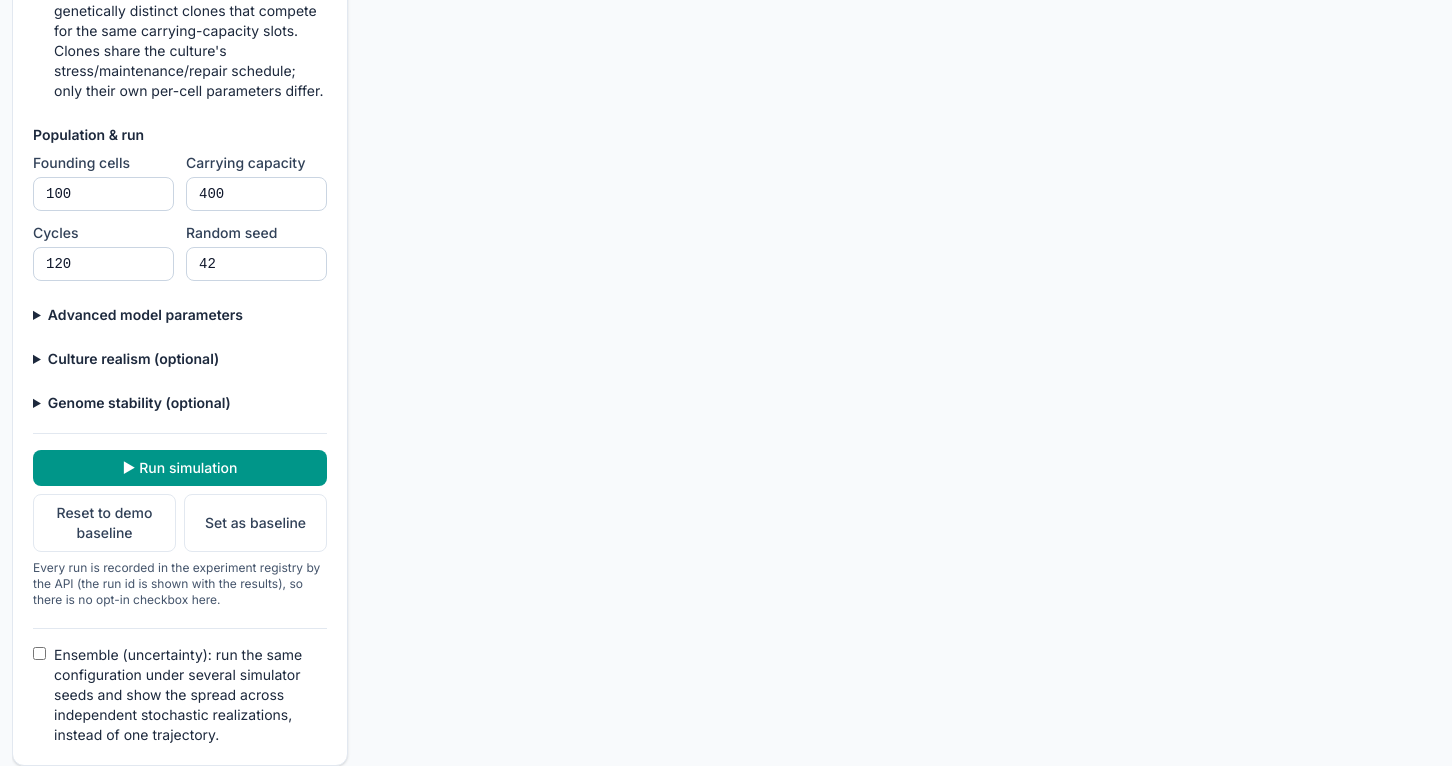
Simulate page › ensemble (uncertainty) mode › shows a loading state while the ensemble request is in flight
(page scrolled)
What coordinates should you click on to do the following:
click the checkbox labelled "Ensemble (uncertainty)"
I would click on:
 (40, 653)
Its box is [33,646,46,660].
(page scrolled)
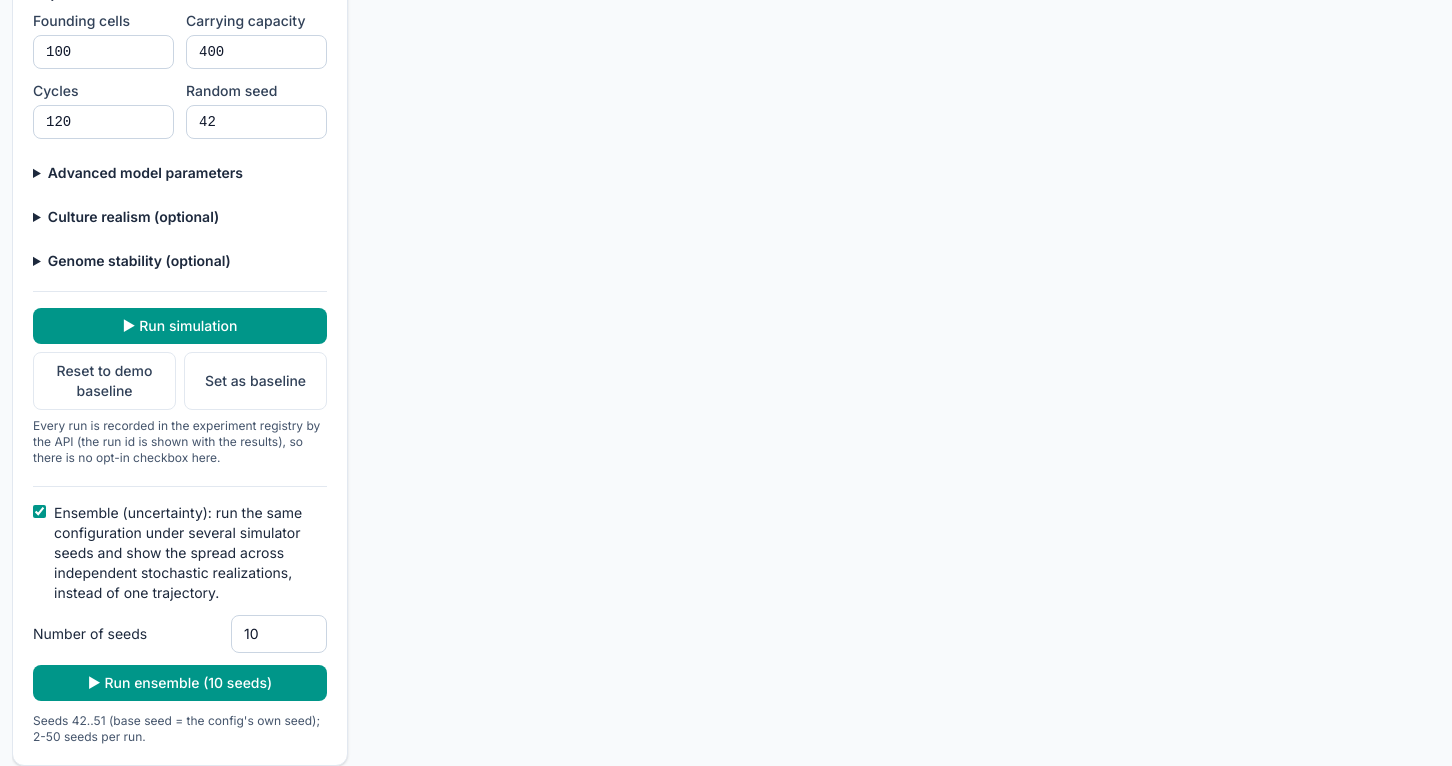
What coordinates should you click on to do the following:
click the button "▶ Run ensemble (10 seeds)"
I would click on:
 (180, 682)
Its box is [33,664,327,700].
(page scrolled)
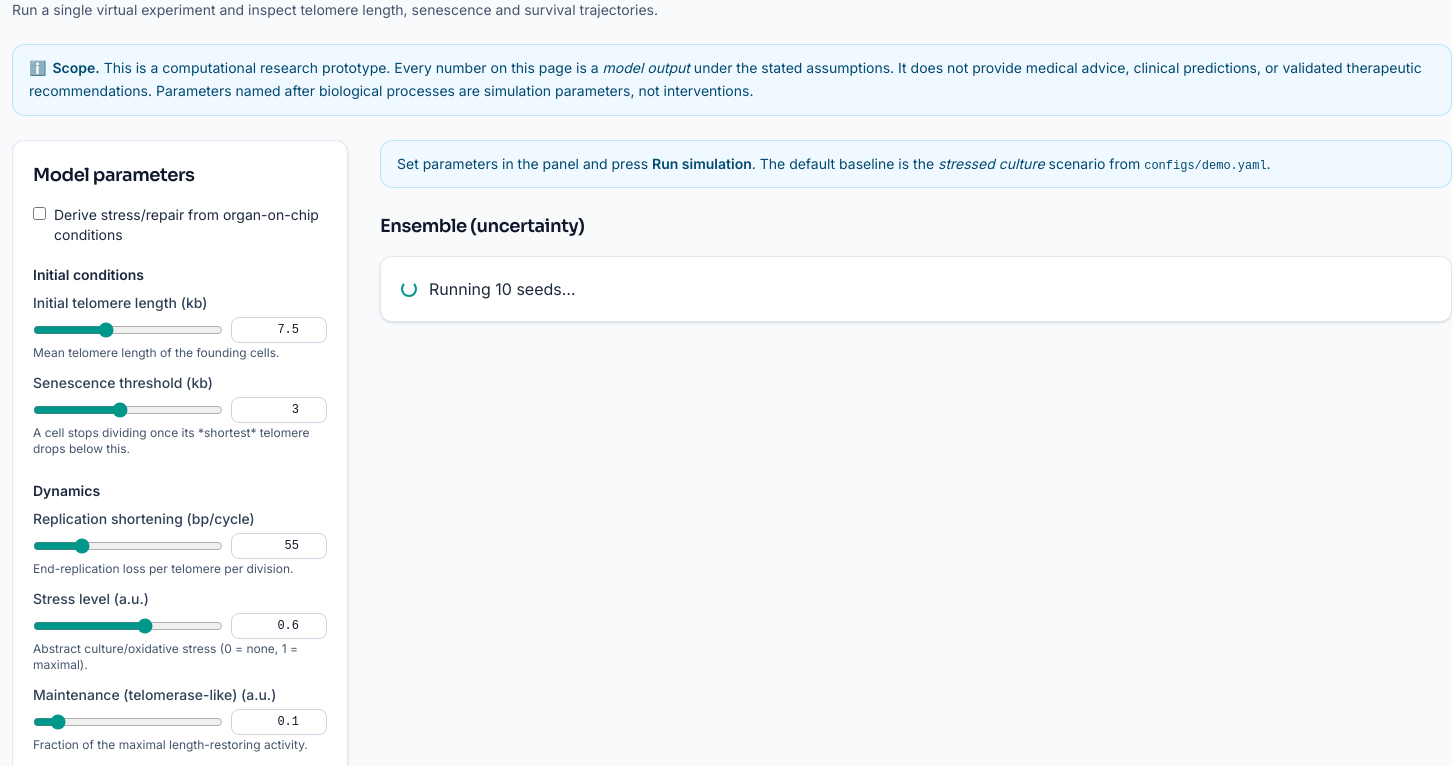
Check: the text "Running 10 seeds…" is shown, box [380,256,1451,322]
